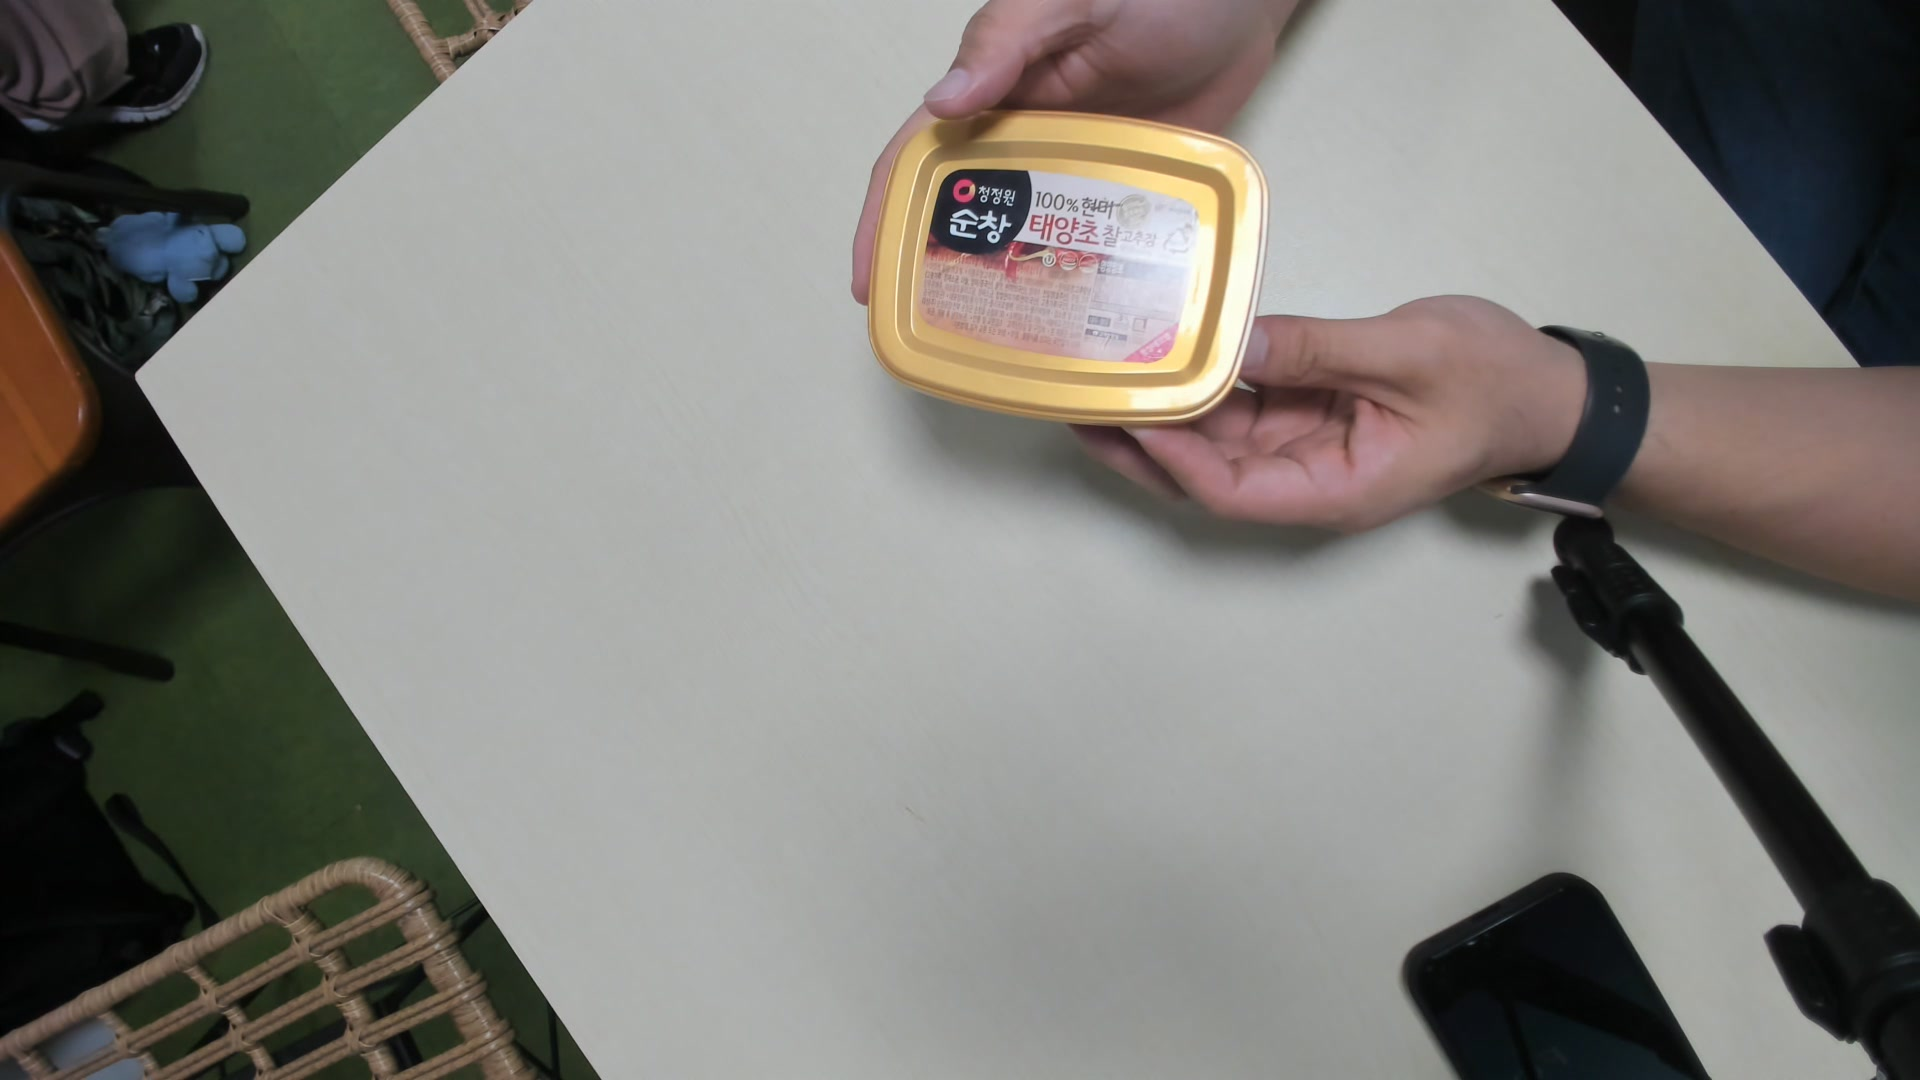OtherSauceDressing_200-299g_NonHalal_NonHealthy: (869, 100, 1267, 425)
